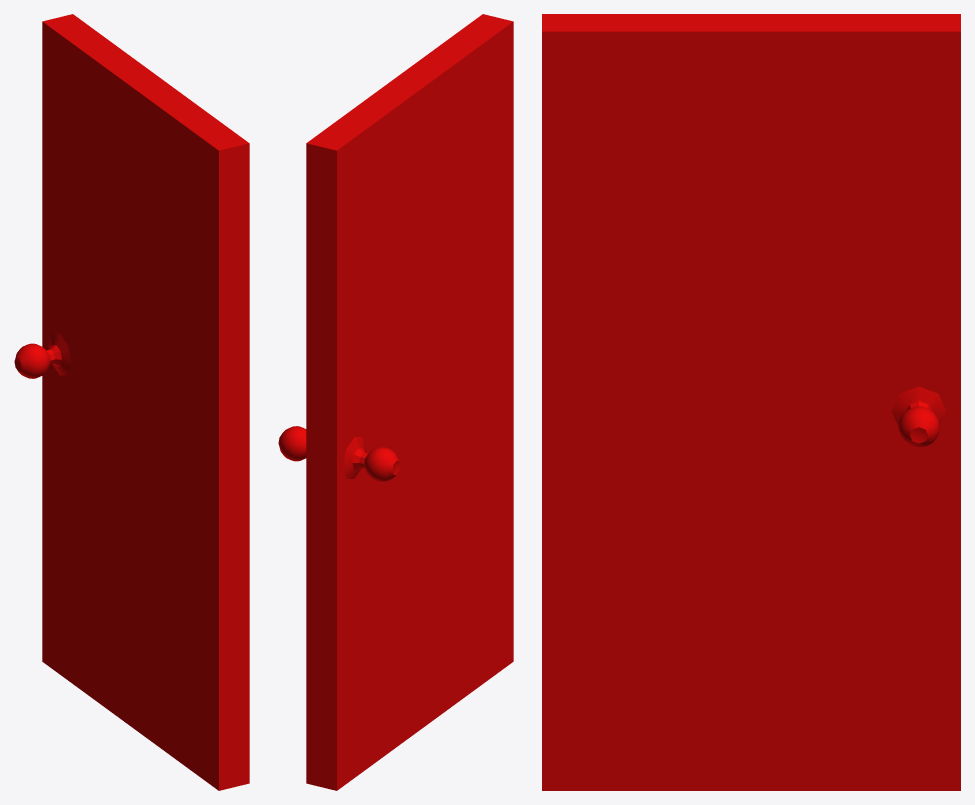
The model's file is door.fbx.
3 renders of one model, left to right at view 1: azimuth 30°, elevation 25°; view 2: azimuth 150°, elevation 25°; view 3: azimuth 270°, elevation 25°, orthographic. The views are drawn at different scales.
Visible parts, largest first — view 1: door_low.001, door handle_low.001; view 2: door_low.001, door handle_low.001; view 3: door_low.001, door handle_low.001.
Boxes of the visible parts, x1=… form: door_low.001: x1=42, y1=14, x2=249, y2=790; door handle_low.001: x1=14, y1=333, x2=71, y2=378; door_low.001: x1=306, y1=14, x2=513, y2=790; door handle_low.001: x1=278, y1=426, x2=399, y2=482; door_low.001: x1=542, y1=14, x2=960, y2=790; door handle_low.001: x1=891, y1=386, x2=946, y2=448.
Size of the model in its own units: 37.25 by 200 by 100.
